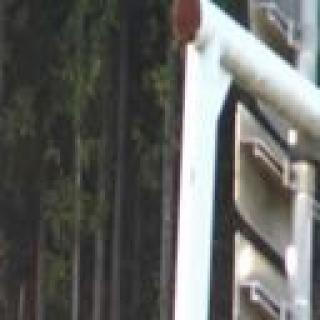fire: (0, 252, 7, 320)
